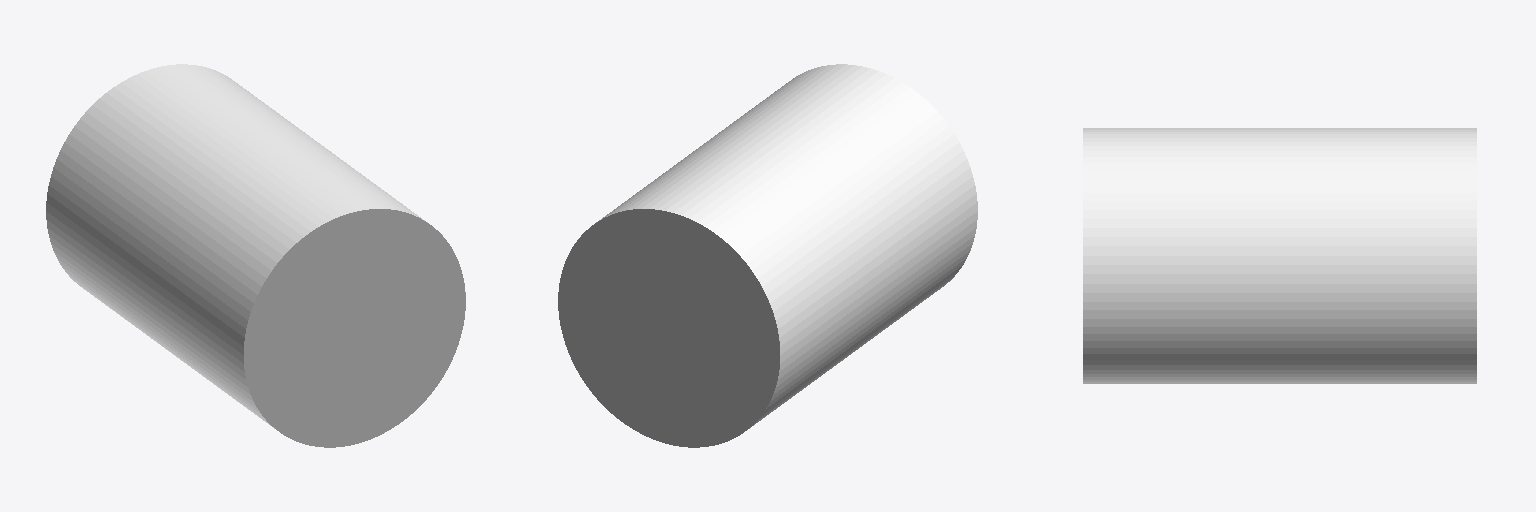
The model's file is pepsi2.obj.
3 renders of one model, left to right at view 1: azimuth 30°, elevation 25°; view 2: azimuth 150°, elevation 25°; view 3: azimuth 270°, elevation 25°, orthographic.
Visible parts, largest first — view 1: Solid1; view 2: Solid1; view 3: Solid1.
Part boxes in pixels (bbox=[...]): Solid1: bbox=[46, 64, 465, 447]; Solid1: bbox=[558, 64, 977, 447]; Solid1: bbox=[1083, 128, 1476, 383].
Bounding box in the file's own units: 0.065 × 0.065 × 0.1.